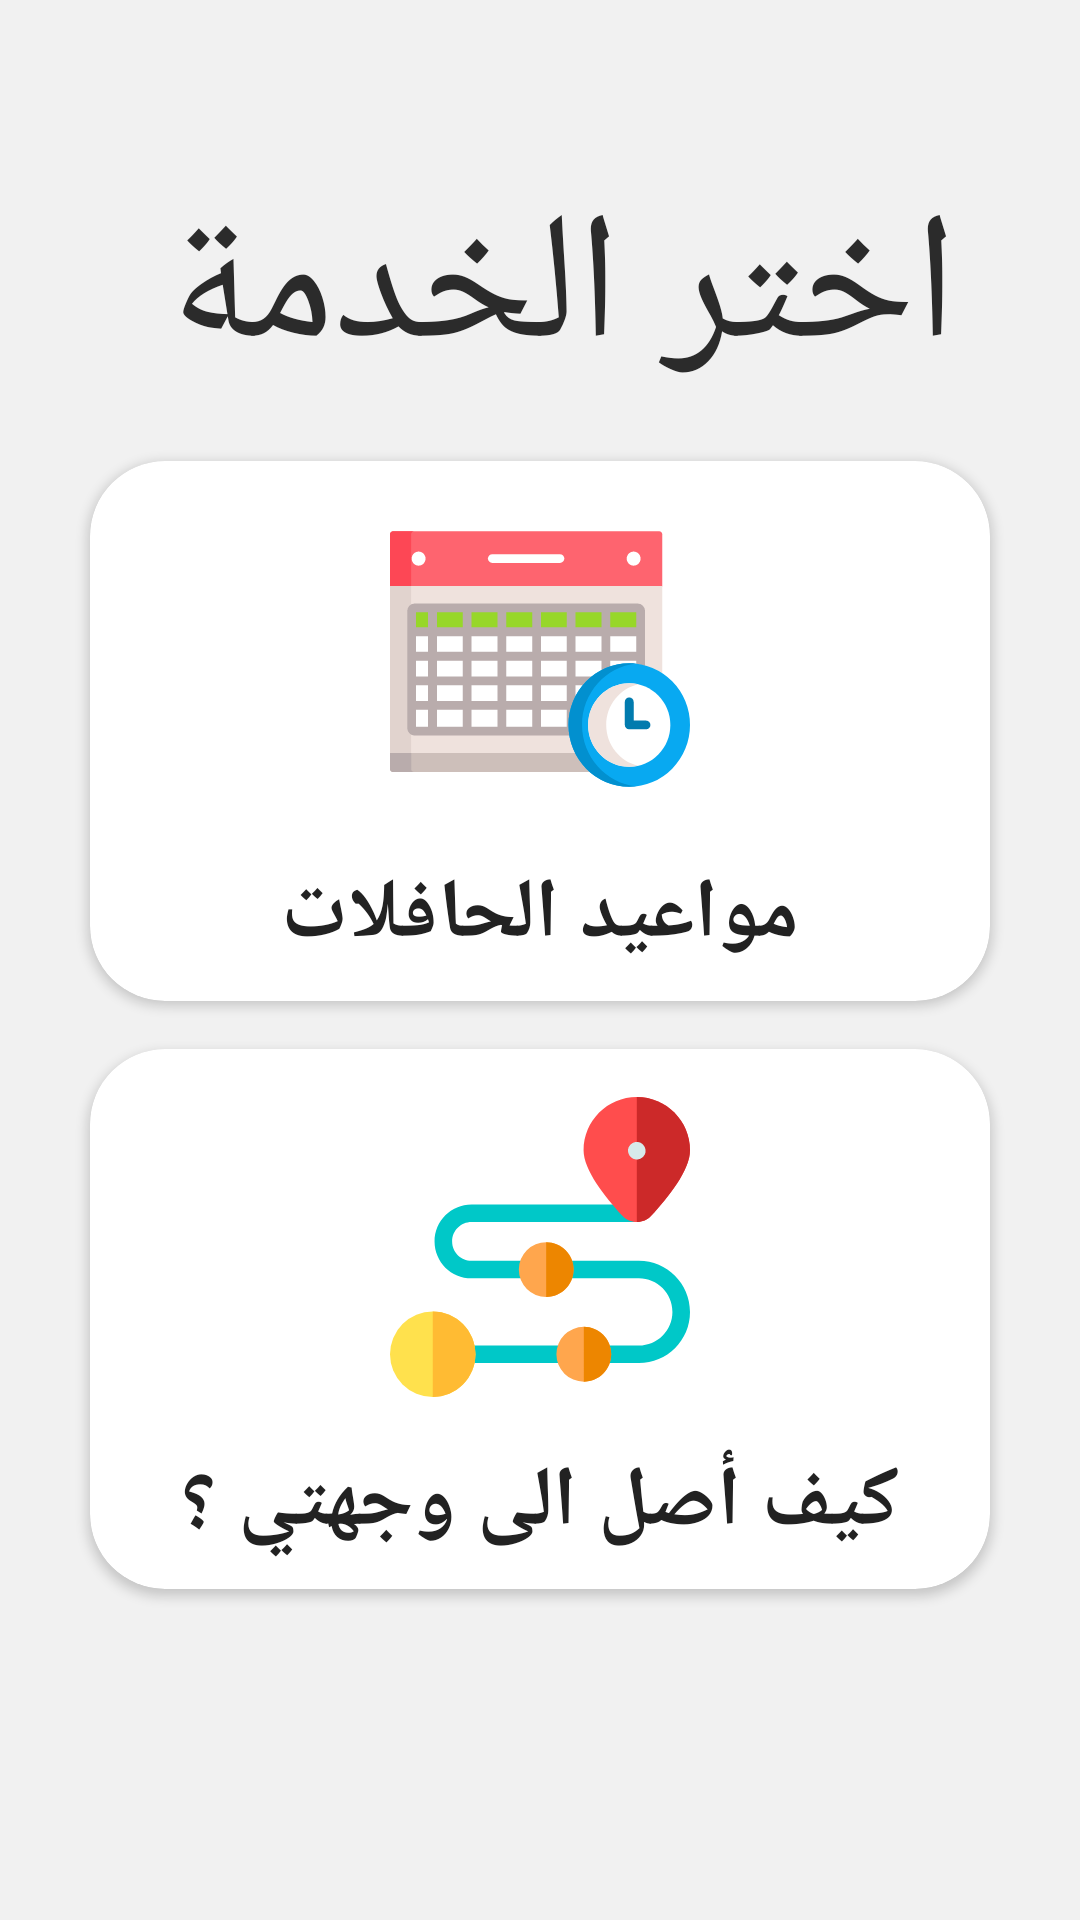

Where to tap for icons on this 1080x1920 app screen, as (x,y):
find route: (540,1247)
